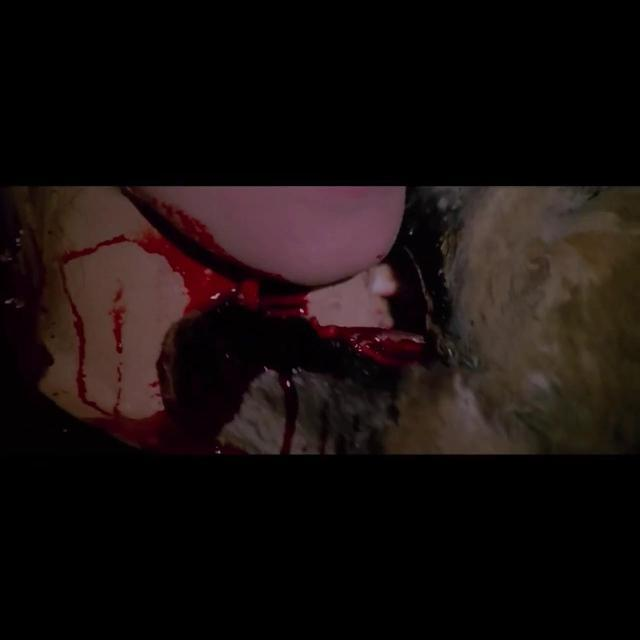blood: (24, 187, 424, 454)
